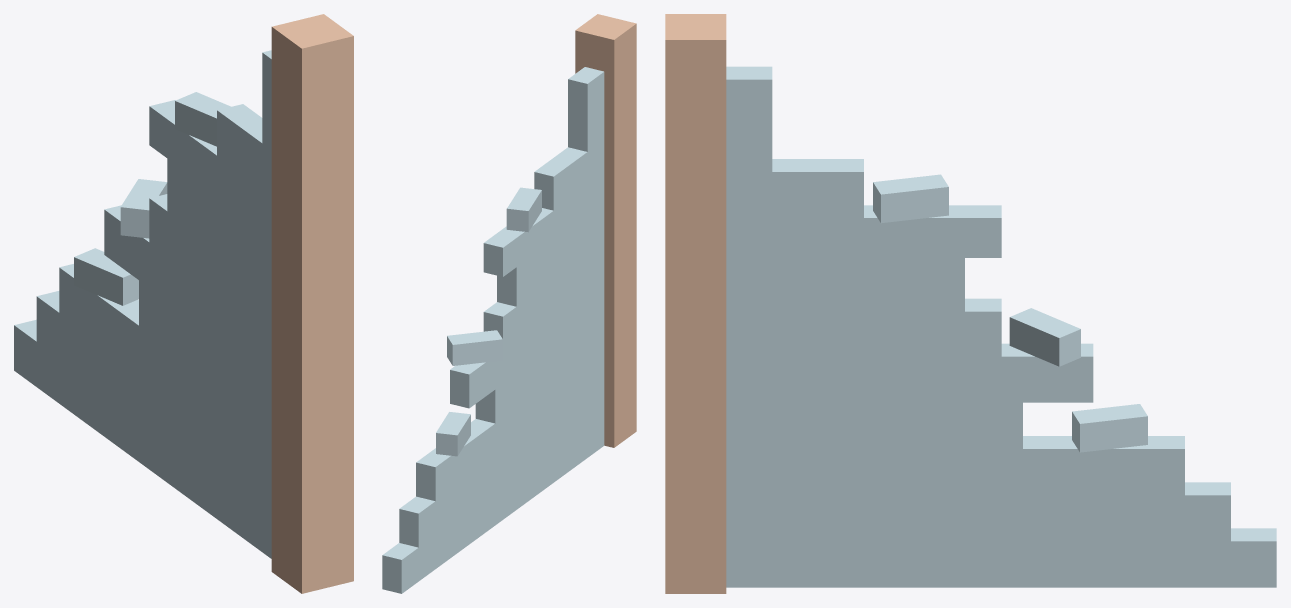
The model's file is wallBrokenFix.fbx.
3 views of the same model, side by side, from view 1: azimuth 30°, elevation 25°; view 2: azimuth 150°, elevation 25°; view 3: azimuth 270°, elevation 25° (orthographic). The views are drawn at different scales.
Parts seen in each view (by area): view 1: wallBroken; view 2: wallBroken; view 3: wallBroken.
Part boxes in pixels (left/top/right/bottom): wallBroken: left=14, top=14, right=353, bottom=593; wallBroken: left=382, top=14, right=636, bottom=593; wallBroken: left=665, top=14, right=1276, bottom=593.
Bounding box in the file's own units: 11.68 × 100 × 100.
